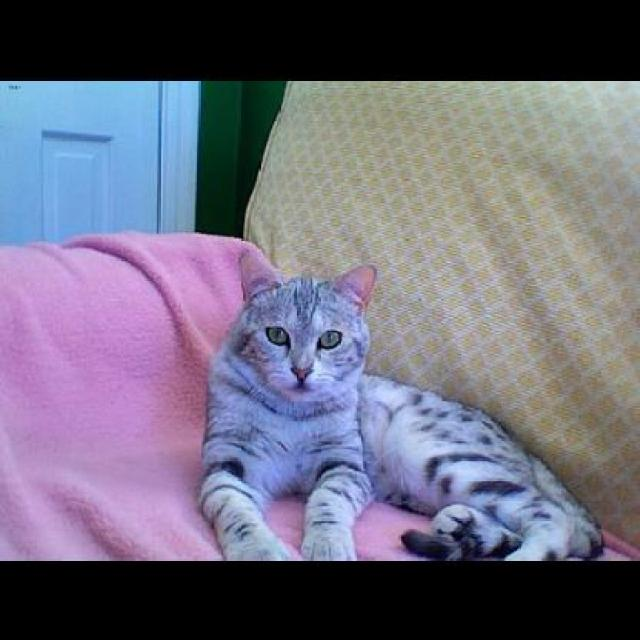unauthorized: (196, 260, 604, 562)
